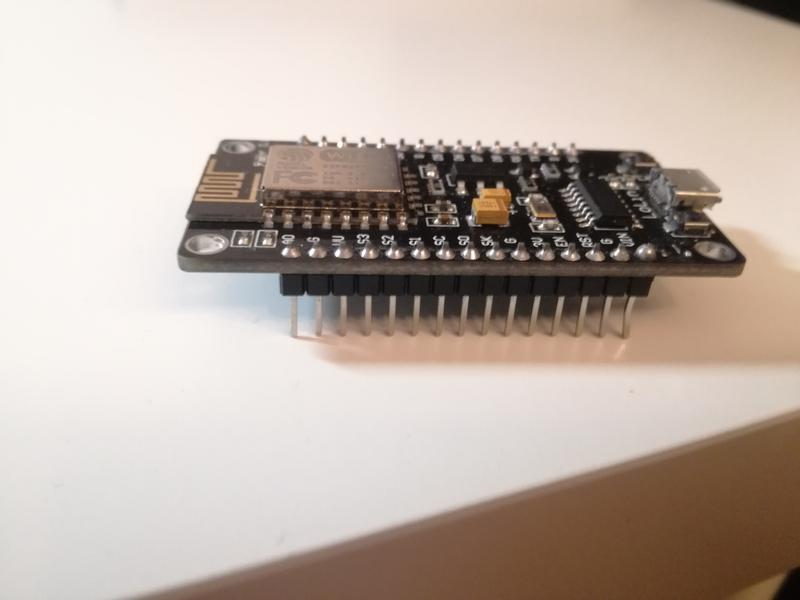ESP8266: (169, 126, 758, 350)
